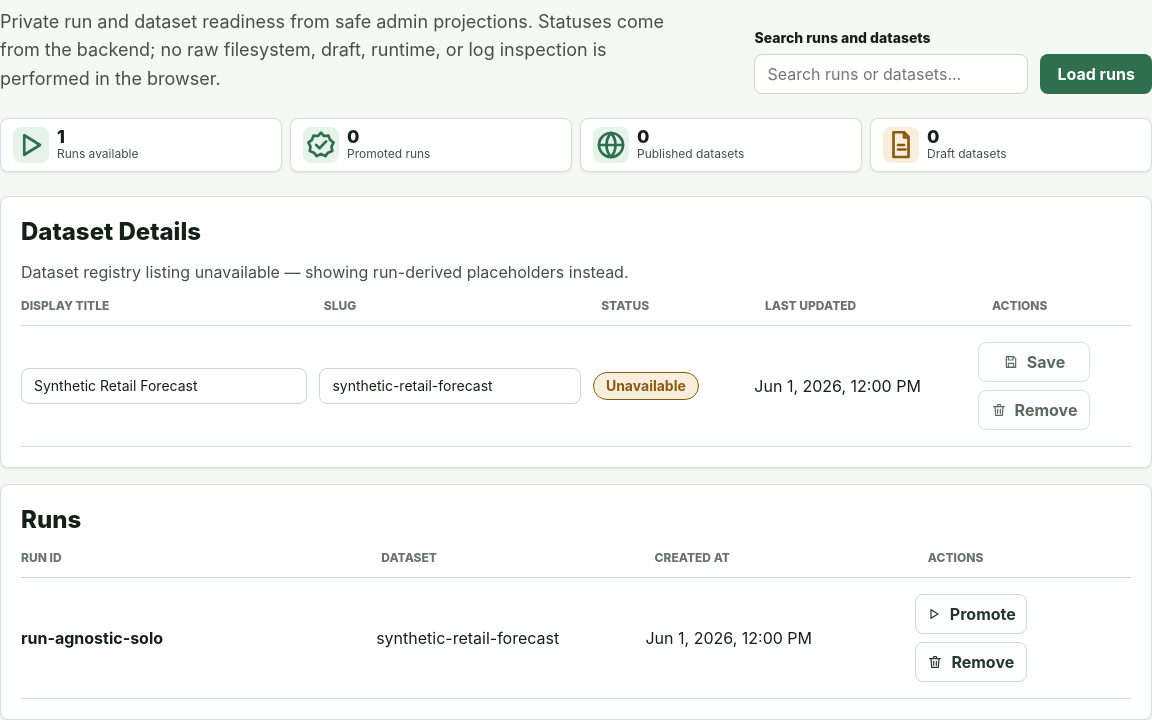
Test: DashboardPage › Runs row removal › opens an English confirmation modal identifying the run id when Remove is clicked
The image size is (1152, 720).
(page scrolled)
Expected: the button "Load runs" is shown, [1040,54,1151,94]
Click the button "Remove" in the row of "synthetic-retail-forecast" at point(971, 662), box [915,642,1027,682]
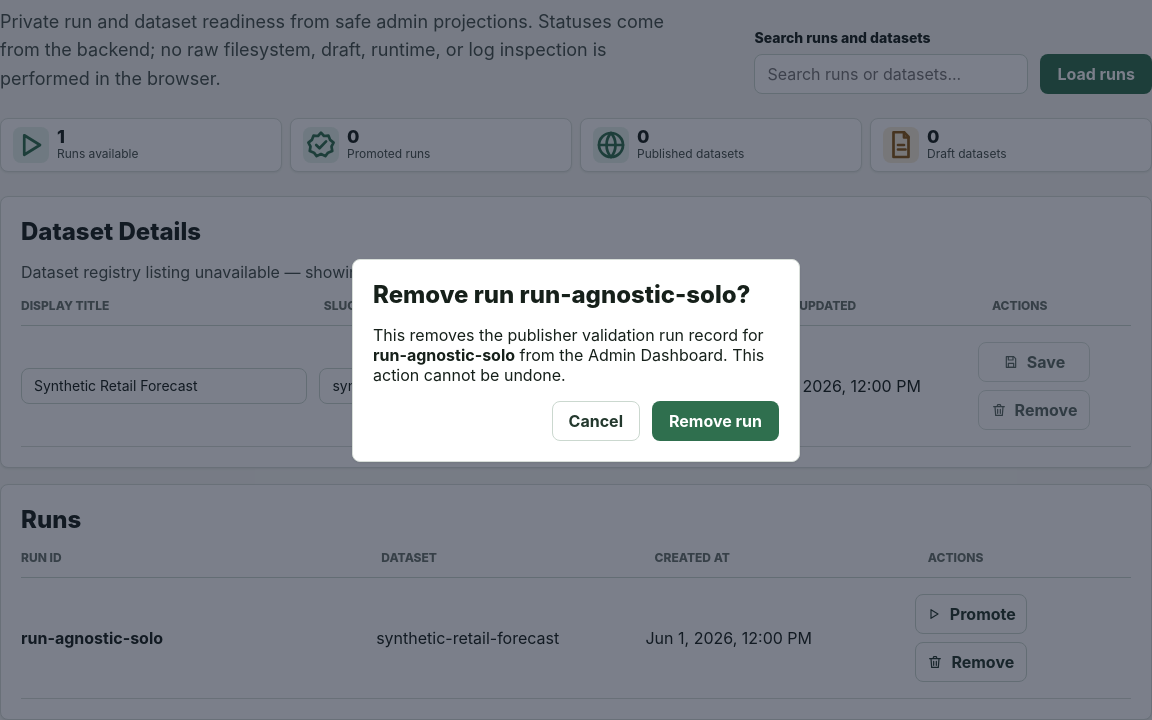
Expected: the text "removes the publisher validation run record" is shown, [373,324,764,344]
Expected: the button "Cancel" is shown, [552,400,640,440]
Expected: the button "Remove run" is shown, [652,400,779,440]
